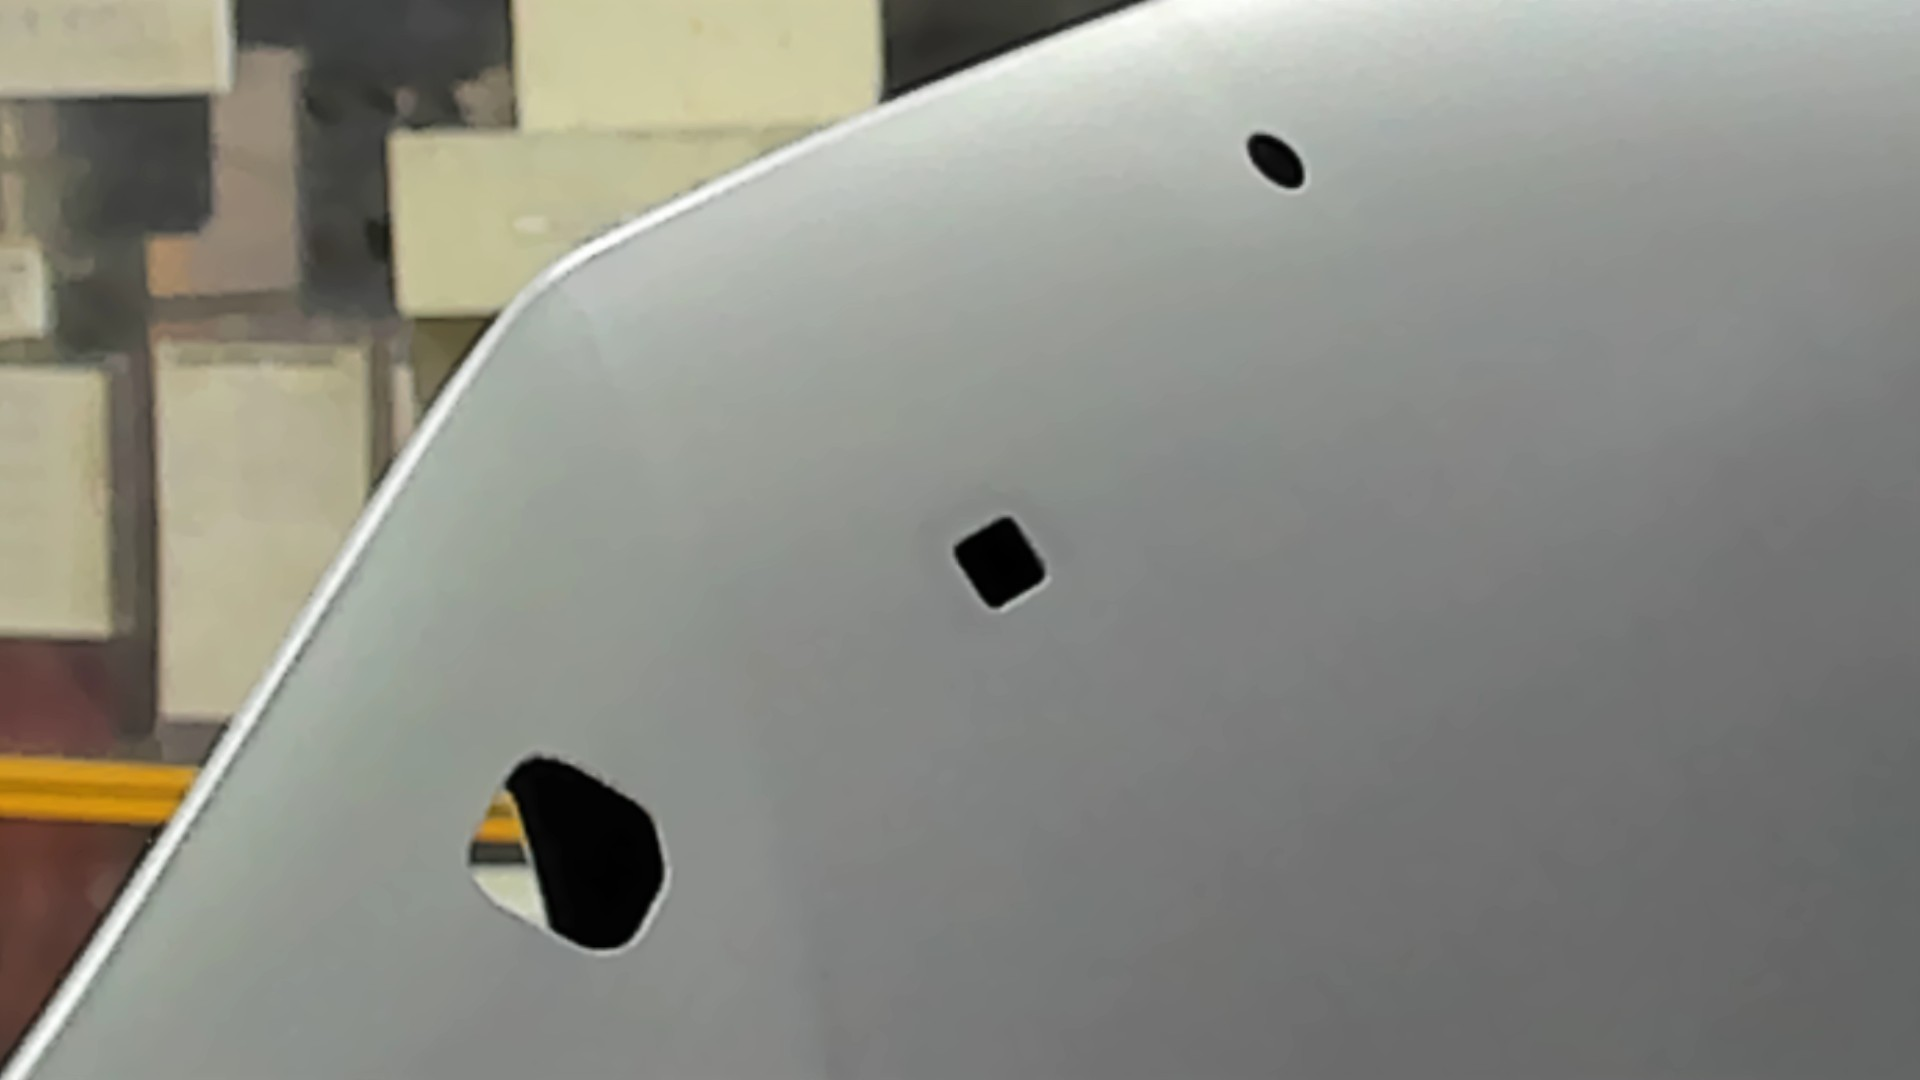chico: (1238, 127, 1313, 196)
grande: (459, 749, 676, 963)
mediano: (942, 508, 1058, 620)
